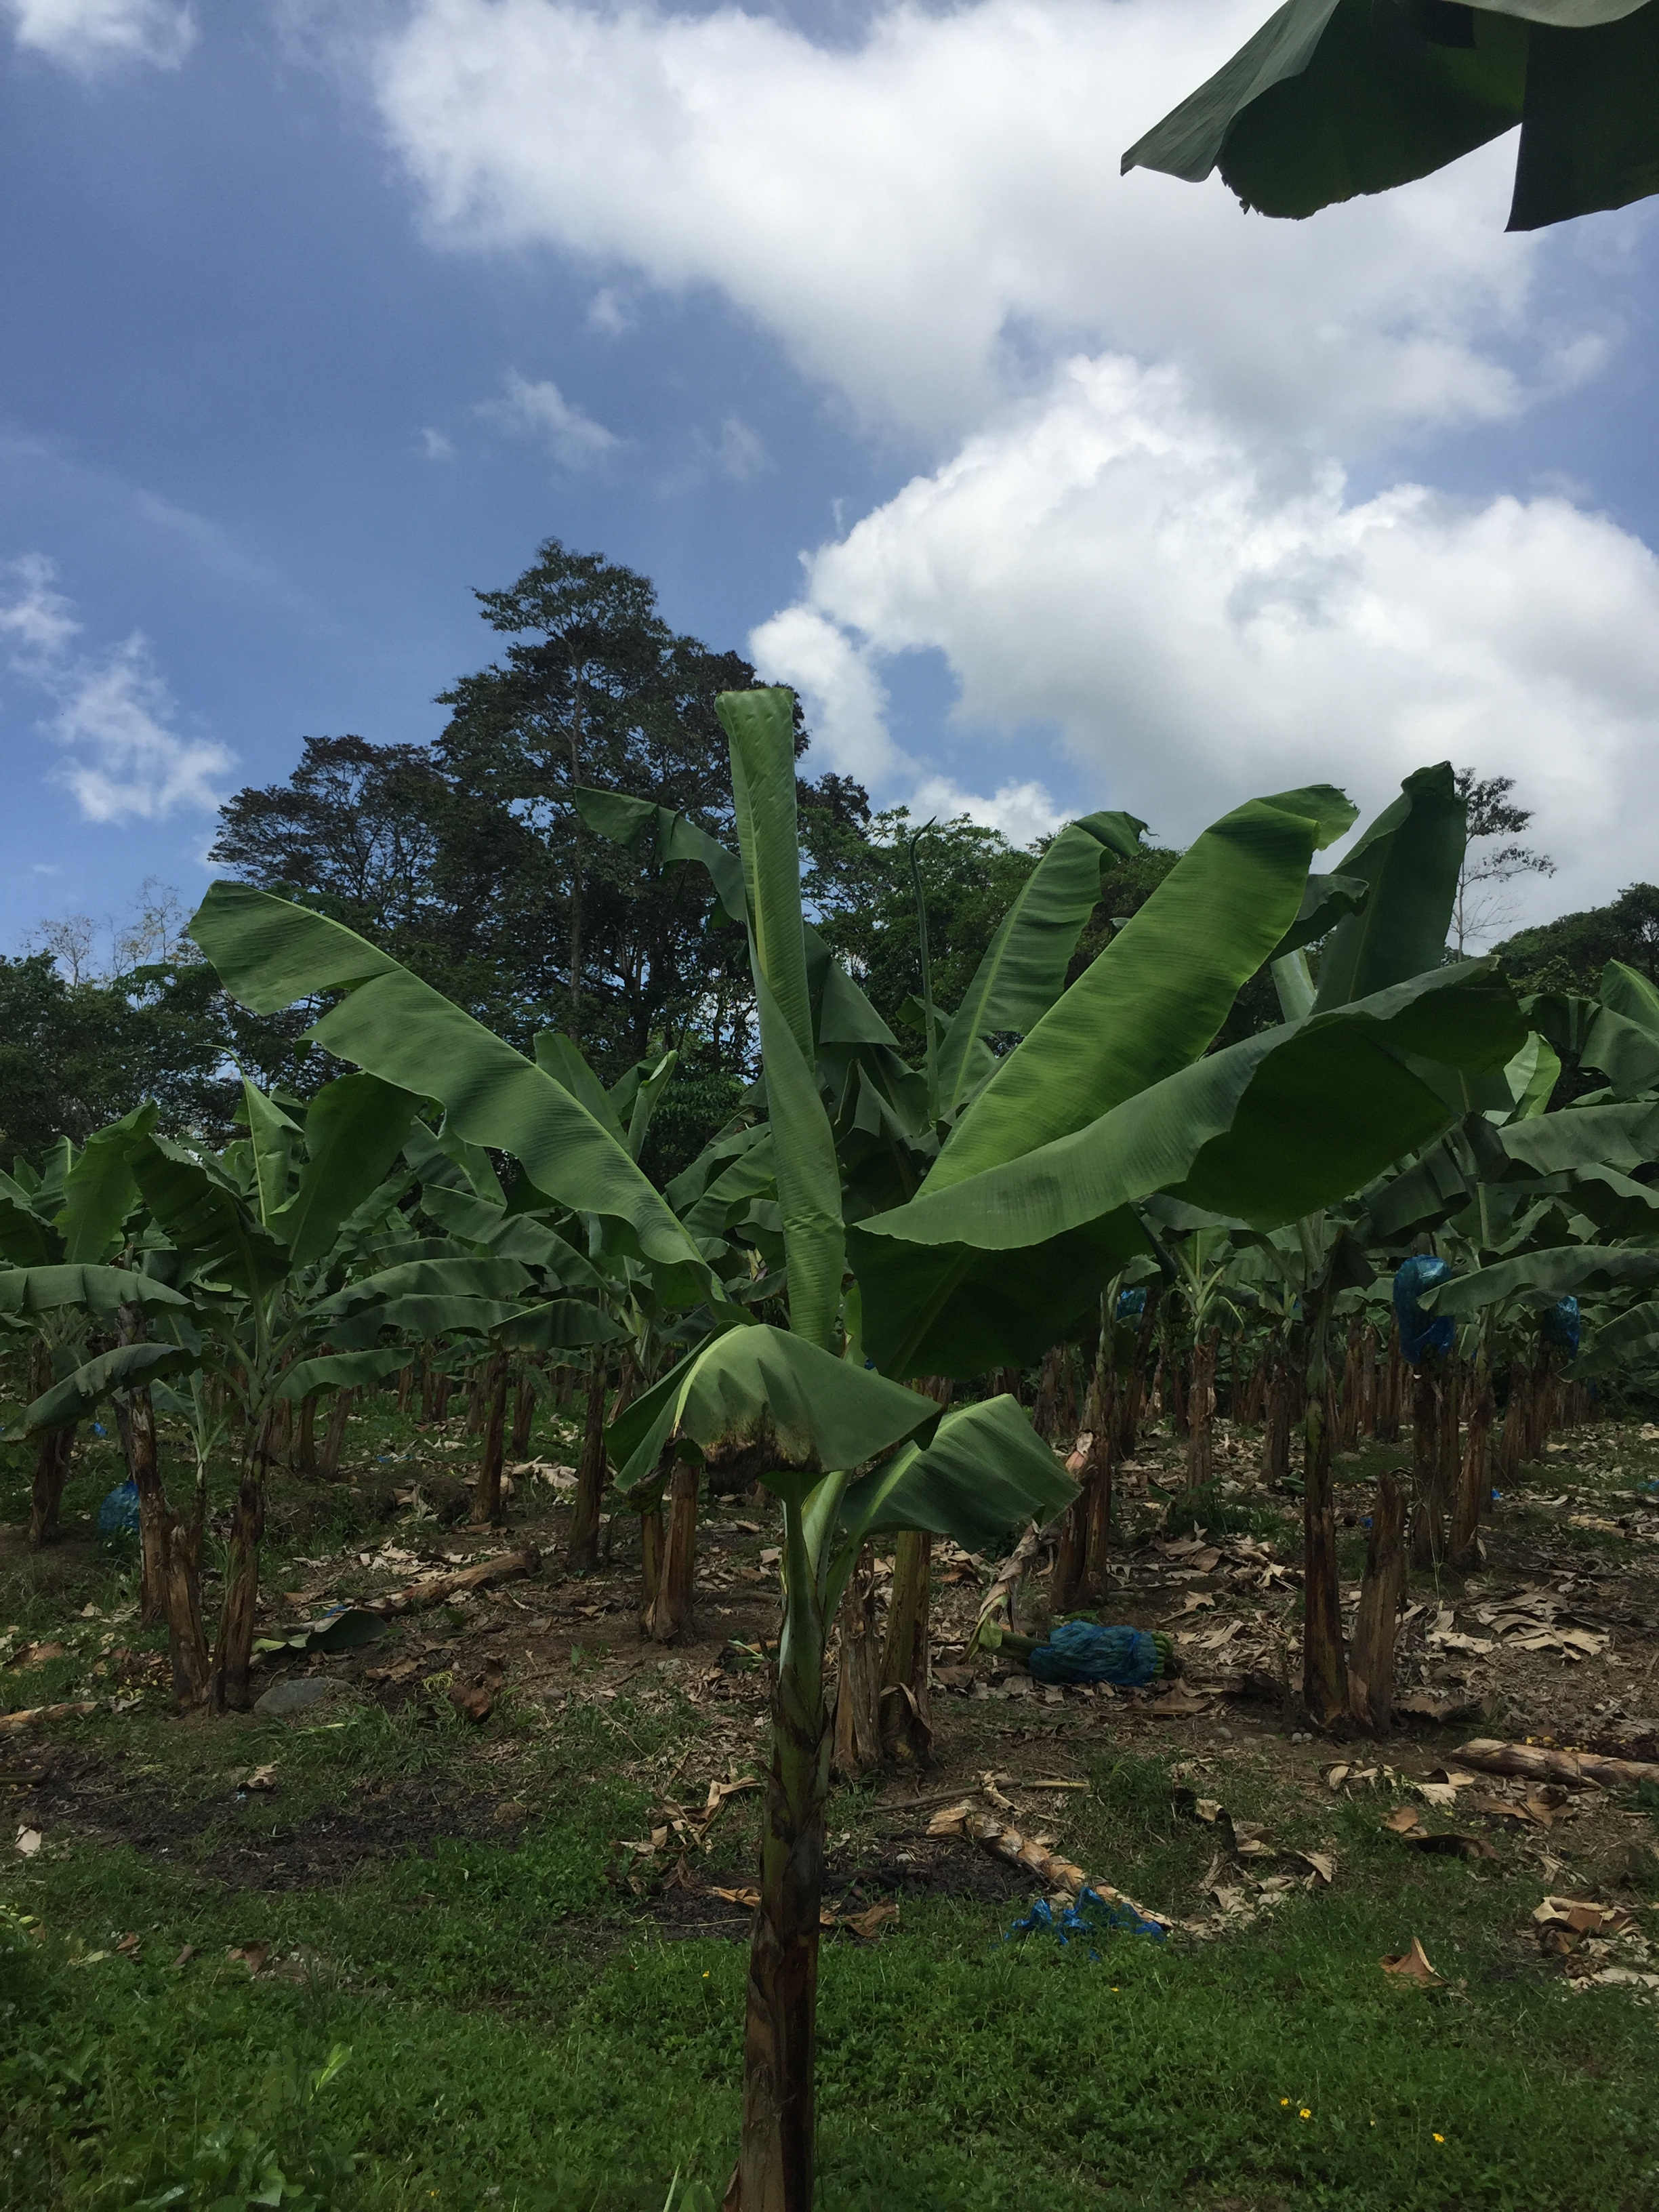candleleafs: (713, 688, 847, 1353)
